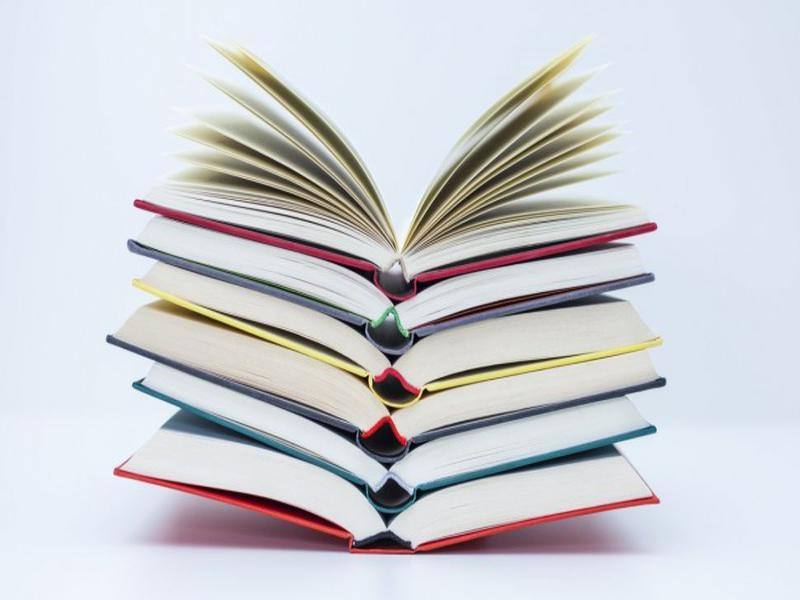book: (136, 30, 677, 299)
